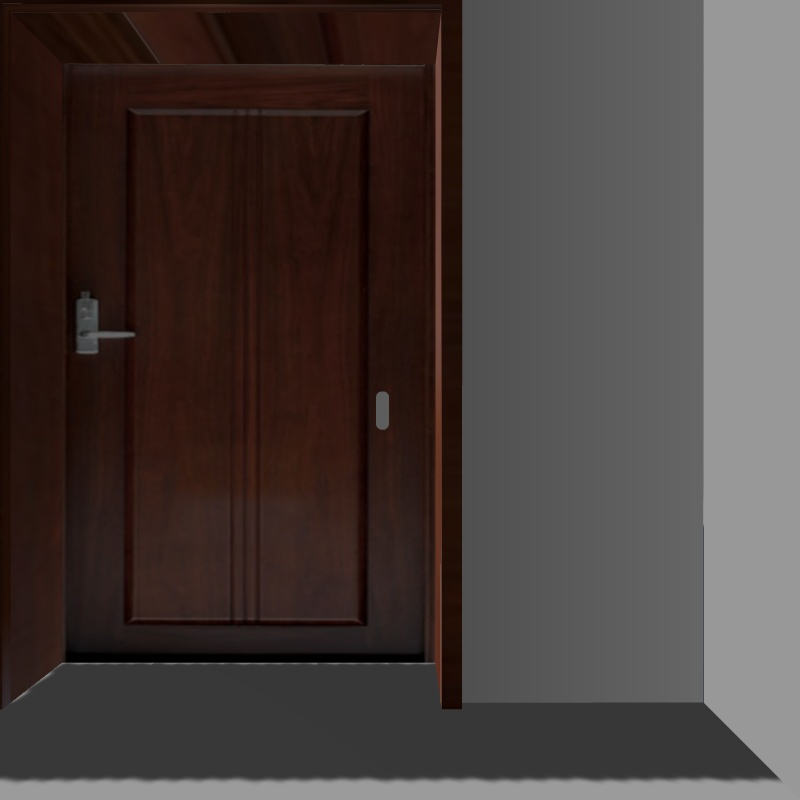handle: (67, 289, 138, 358)
